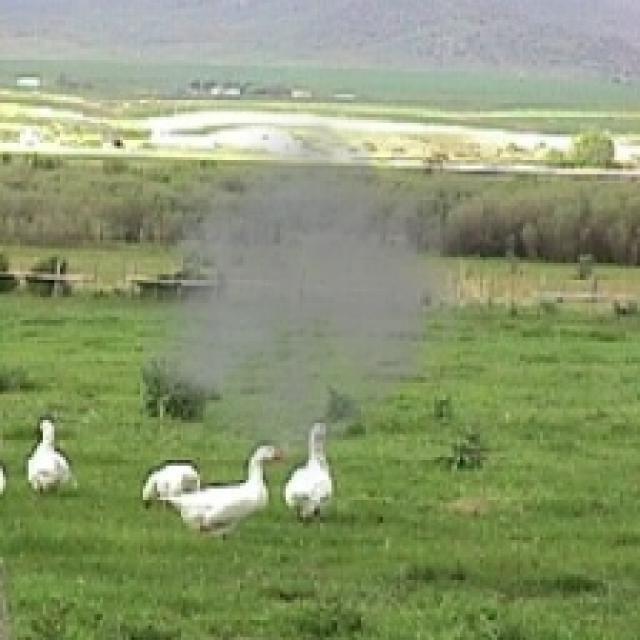Smoke: (143, 103, 506, 486)
